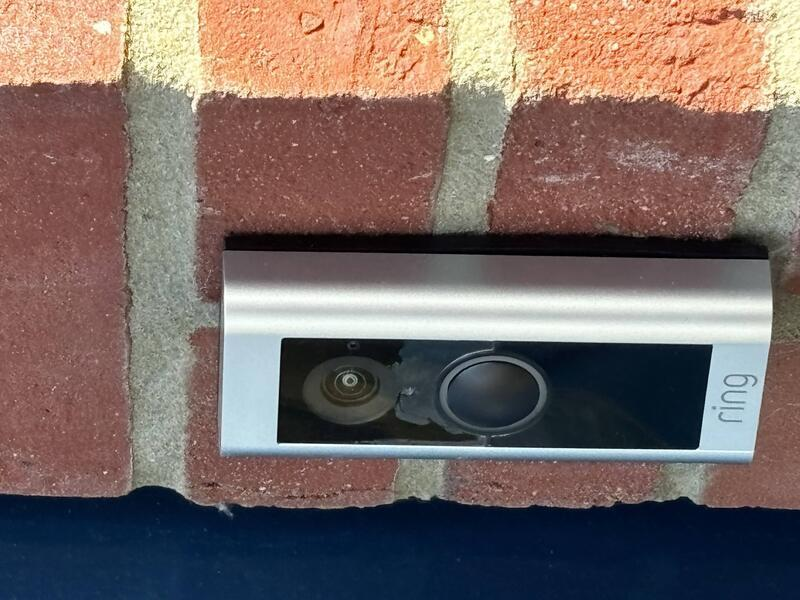doorbell: (111, 194, 374, 600)
